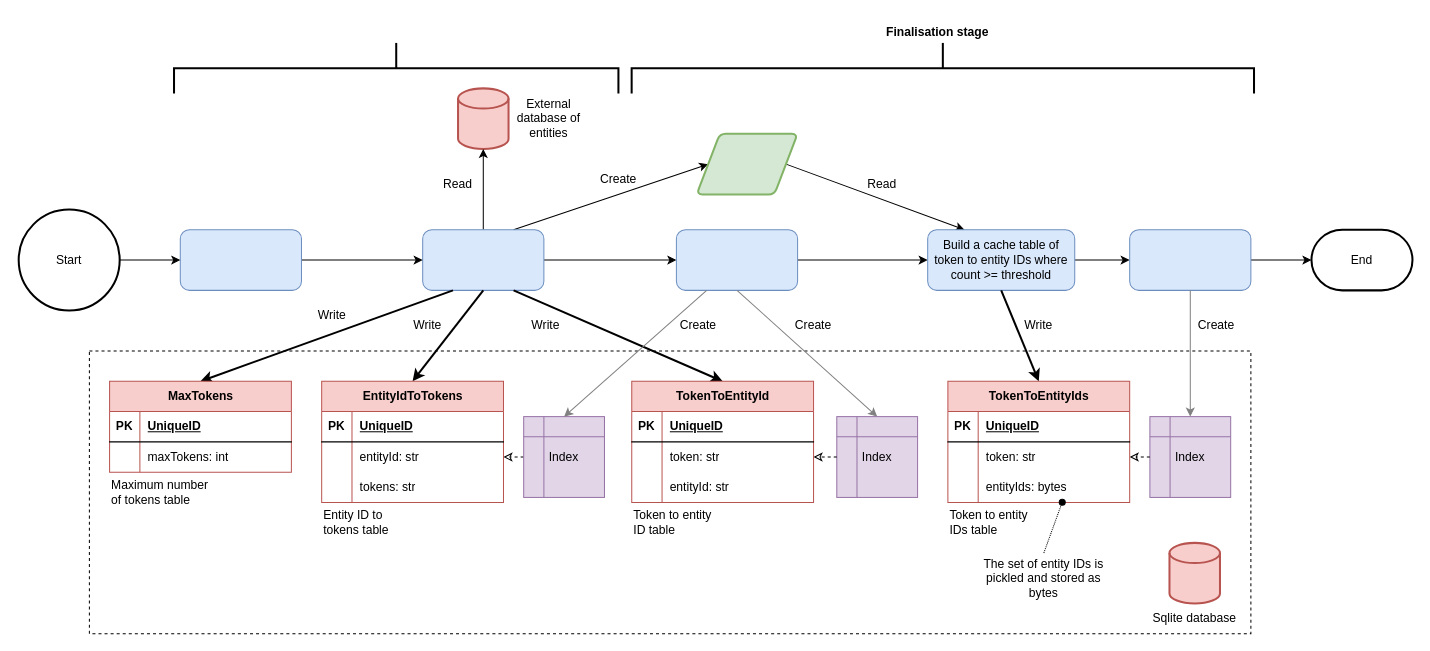
Image size: 1430x651. Some labels were removed from this diagram. Each missing label, with the centre of its shape:
Add indices: point 736,259
Build index for token to entity IDs table: point 1190,259
Create Sqlite database tables: point 240,259
Initial load stage: point 396,67
Read all entities from external database: point 483,259
Token to entity count dict: point 746,163
